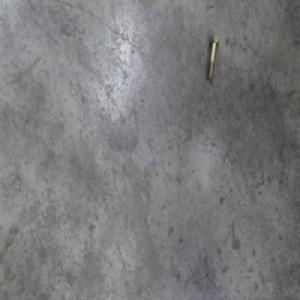Bolt: (206, 35, 219, 82)
